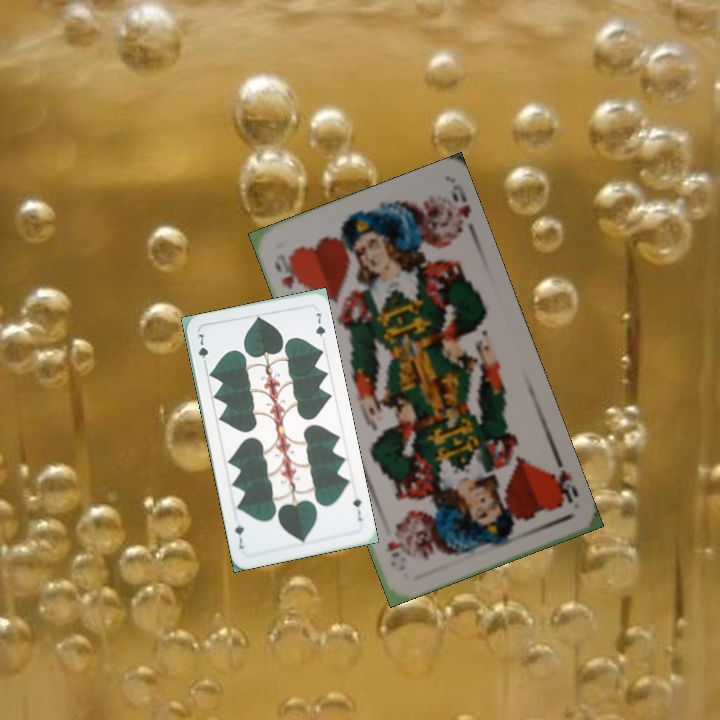G7: (193, 330, 211, 369), (349, 494, 365, 524)
HO: (545, 452, 581, 509), (270, 250, 303, 291)
